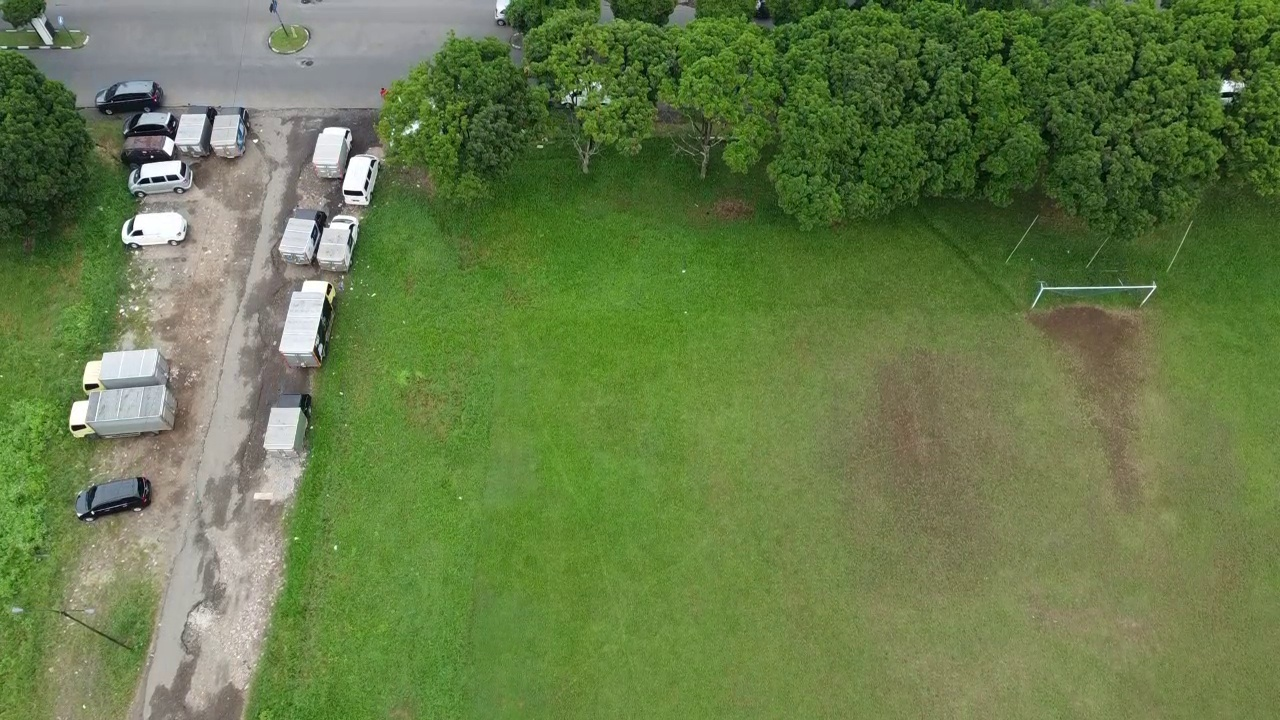mobil: (68, 480, 162, 522), (117, 205, 193, 250), (337, 153, 388, 212), (96, 76, 164, 116), (130, 161, 194, 198), (116, 129, 182, 164), (121, 109, 178, 142)
